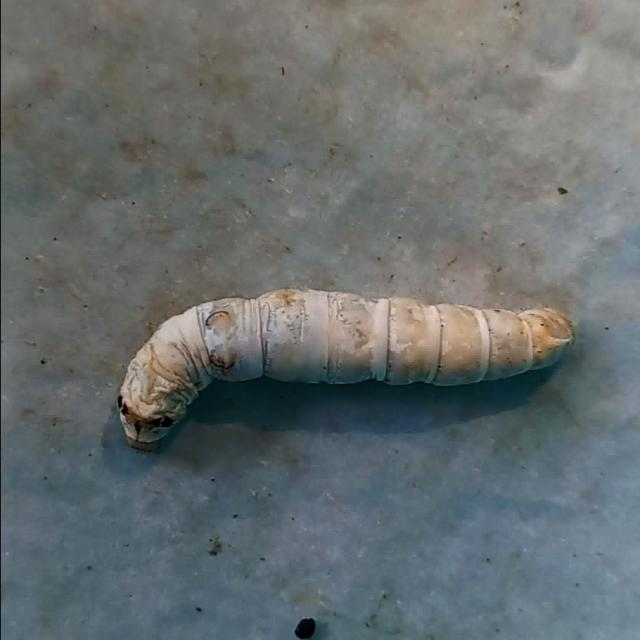Grasserie: (89, 282, 584, 454)
